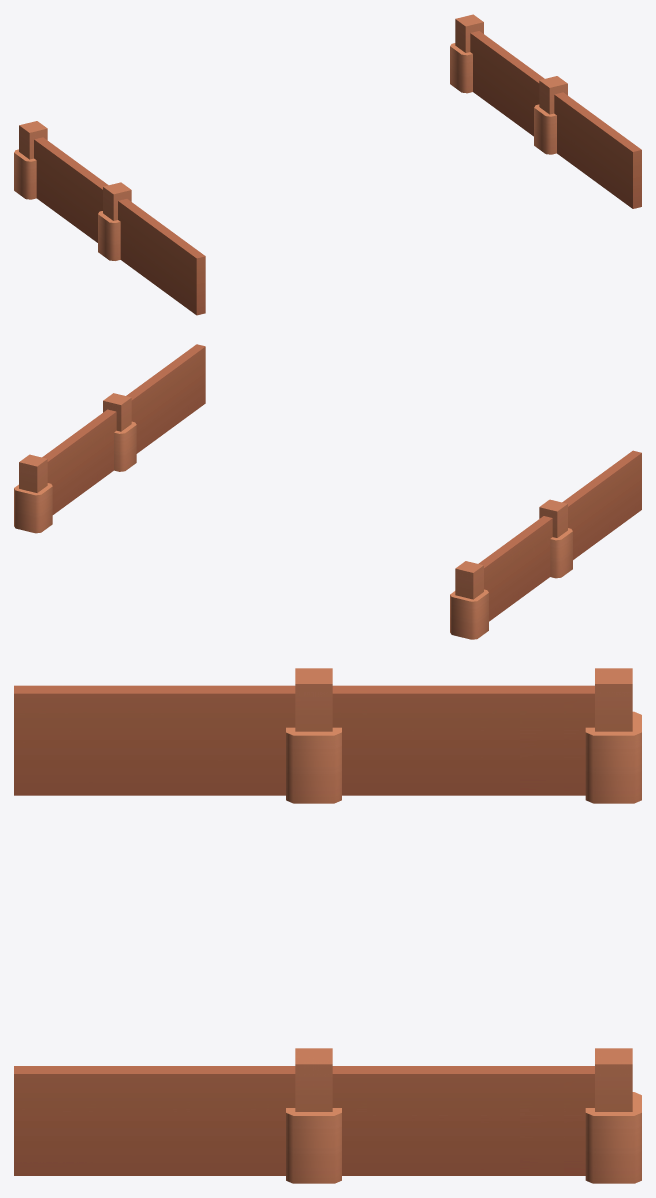
File: fence-low.draco.glb
3 views of the same model, one above another, from view 1: azimuth 30°, elevation 25°; view 2: azimuth 150°, elevation 25°; view 3: azimuth 270°, elevation 25° (orthographic). The views are drawn at different scales.
Parts seen in each view (by area): view 1: fence-low; view 2: fence-low; view 3: fence-low.
Part boxes in pixels (x1=…): fence-low: x1=14, y1=14, x2=641, y2=315; fence-low: x1=14, y1=344, x2=641, y2=639; fence-low: x1=14, y1=668, x2=641, y2=1183.
Bounding box in the file's own units: 1.28 × 0.17 × 0.8375.
1 material, 1 textured.
